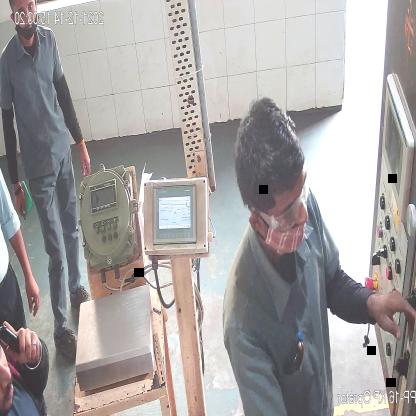no_glove: (10, 228, 42, 317), (367, 286, 416, 337), (76, 138, 92, 178)
